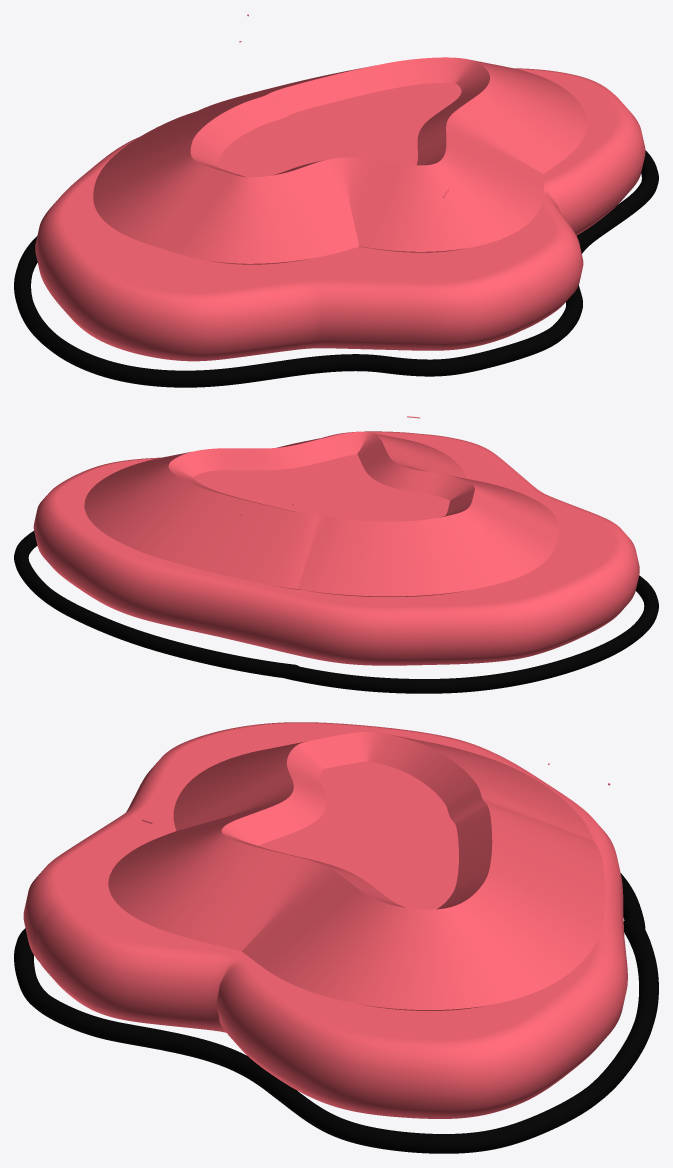
The model's file is goo.fbx.
The picture shows the model from 3 angles, top to bottom: view 1: azimuth 30°, elevation 25°; view 2: azimuth 150°, elevation 25°; view 3: azimuth 270°, elevation 25°; orthographic projection. The views are drawn at different scales.
Visible parts, largest first — view 1: p.0050, p.0028, s.0008; view 2: p.0050, p.0028, s.0008; view 3: p.0050, p.0028, s.0008.
Part boxes in pixels (x1,y1,x2,y2): p.0050: [93, 57, 587, 264]; p.0028: [35, 68, 645, 361]; s.0008: [14, 150, 658, 387]; p.0050: [84, 431, 559, 596]; p.0028: [33, 431, 639, 665]; s.0008: [14, 531, 658, 693]; p.0050: [108, 732, 605, 1010]; p.0028: [23, 722, 627, 1118]; s.0008: [14, 873, 658, 1153].
Size of the model in its own units: 1.34 by 0.466 by 0.9985.
